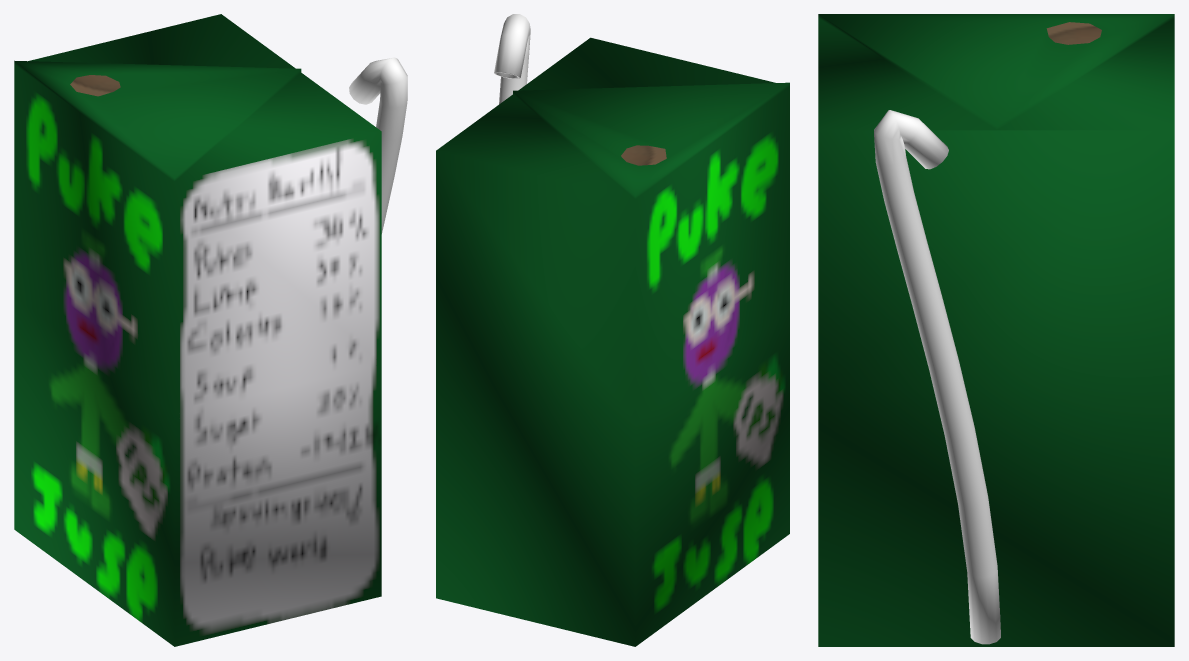
File: item-puke-juse.glb
3 renders of one model, left to right at view 1: azimuth 30°, elevation 25°; view 2: azimuth 150°, elevation 25°; view 3: azimuth 270°, elevation 25°, orthographic. The views are drawn at different scales.
Size of the model in its own units: 0.0768 by 0.14 by 0.0808.
Materials: 3 (2 with a texture image).
